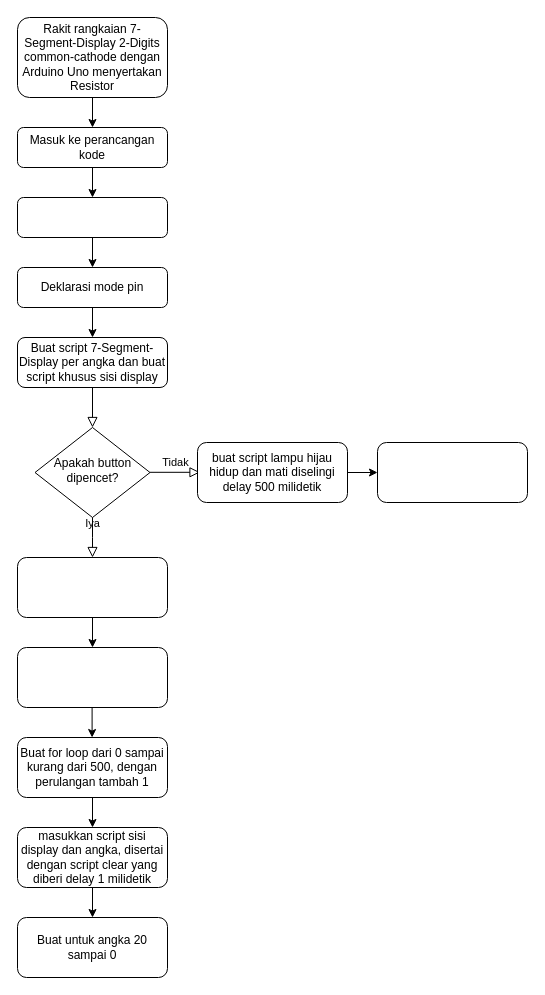
The diagram is 545 pixels wide and 995 high, and some of its shapes have lost their labels. The shapes that lost their labels are listed below. From the top down, each one's centre as x and y in pixels, then its label:
pixel 92 217: Deklarasi nama pin
pixel 452 472: masukkan script lampu hijau ke void loop
pixel 92 587: hidupkan lampu kuning lalu di delay 2 detik
pixel 92 677: matikan lampu kuning lalu hidupkan lampu merah
